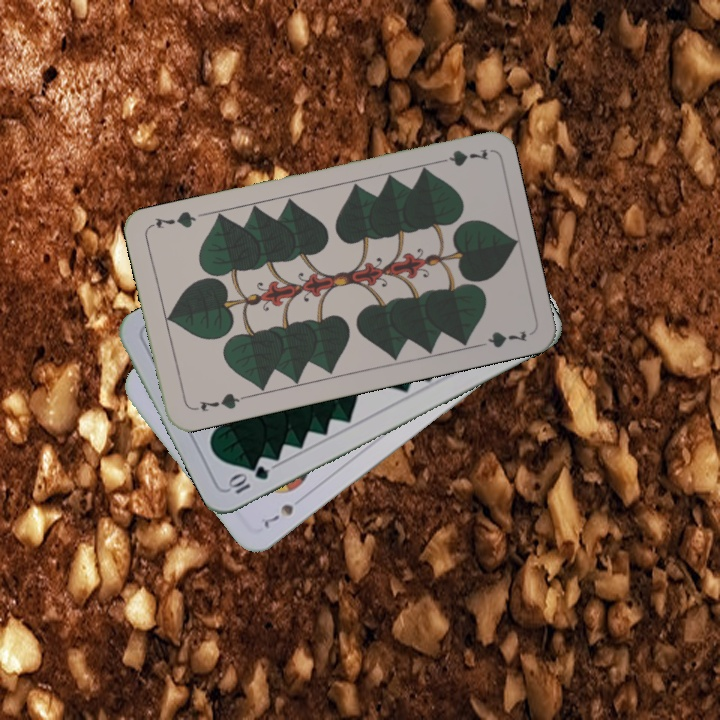G10: (224, 461, 272, 497)
G7: (189, 389, 248, 415), (431, 144, 491, 169)
S7: (259, 499, 296, 531)
